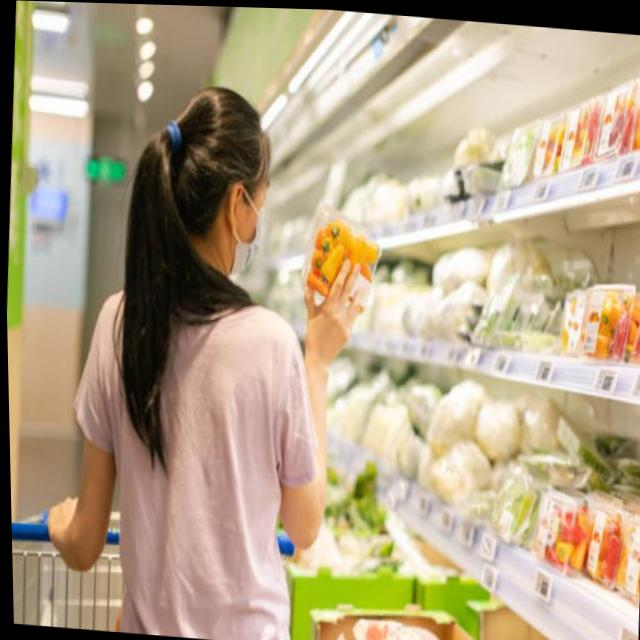no helmet: (144, 77, 273, 291)
